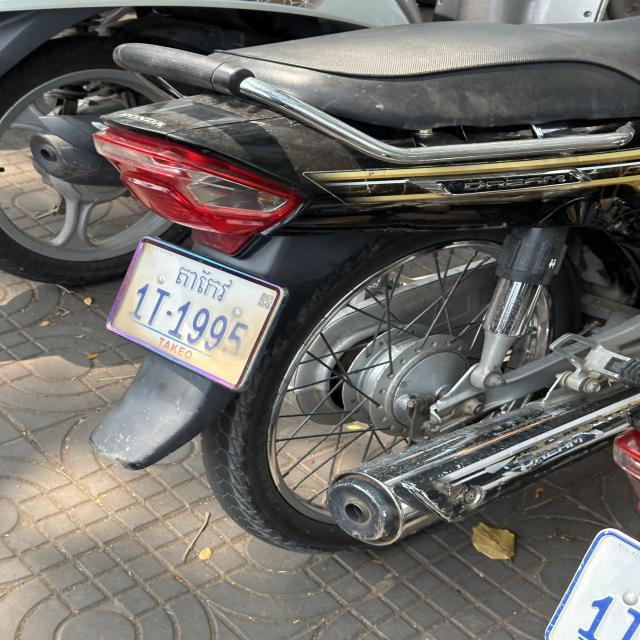Takeo: (175, 265, 235, 301)
